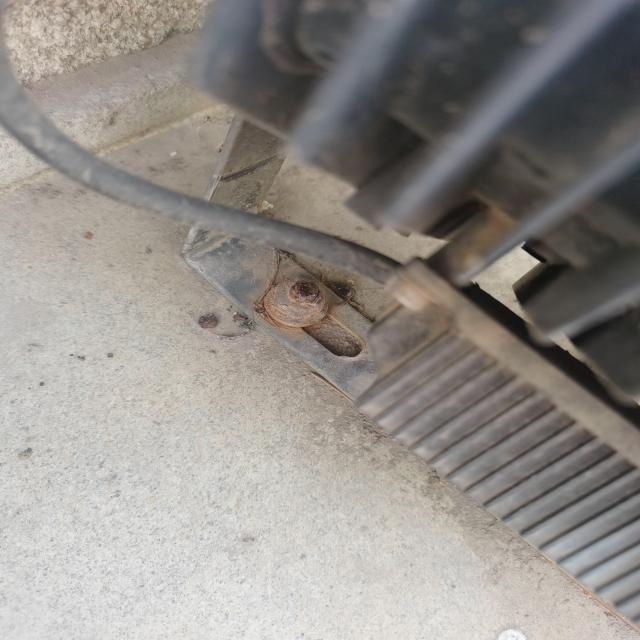bolt nut: (270, 274, 330, 320)
